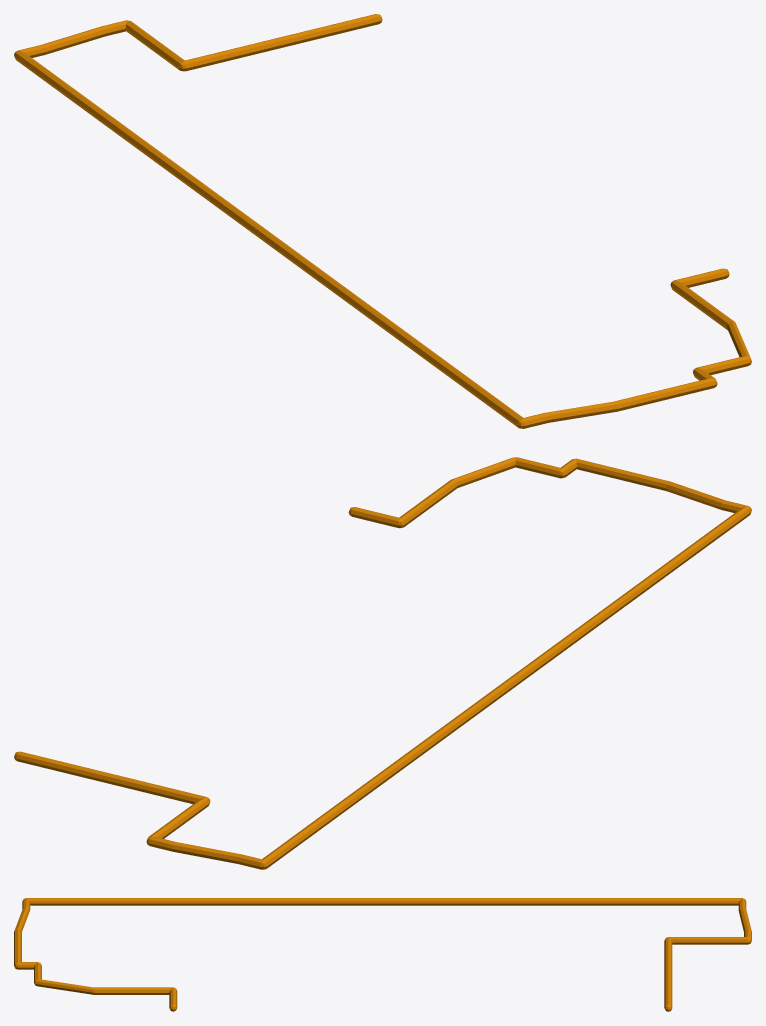
3 views of the same model, one above another, from view 1: azimuth 30°, elevation 25°; view 2: azimuth 150°, elevation 25°; view 3: azimuth 270°, elevation 25° (orthographic). The views are drawn at different scales.
Bounding box in the file's own units: 652 × 20 × 1854.
